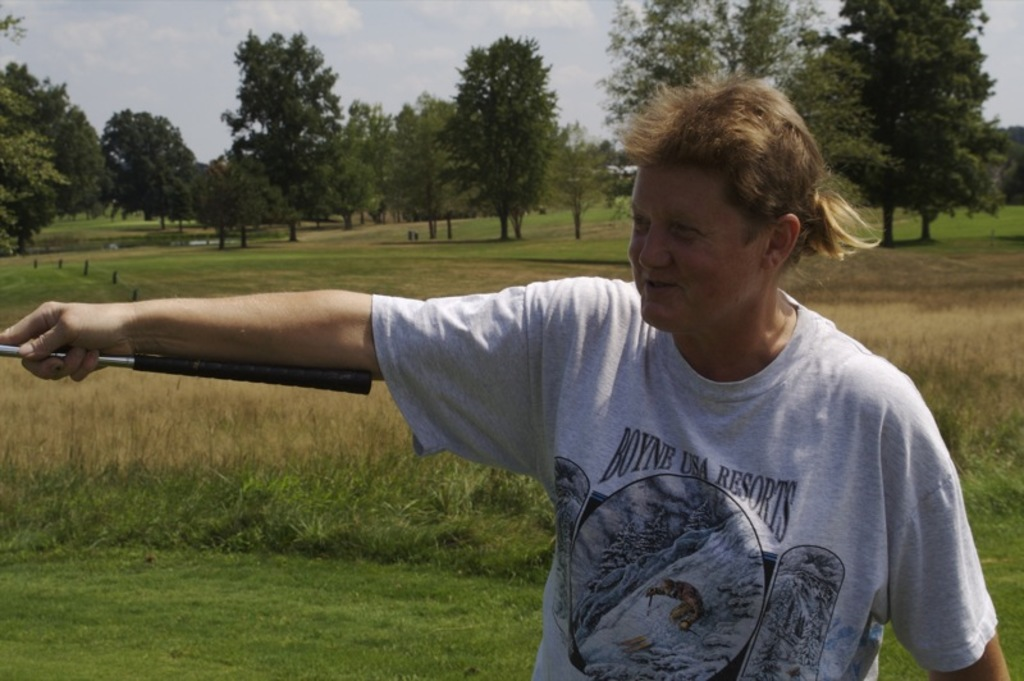Tree: (0, 0, 1024, 257)
